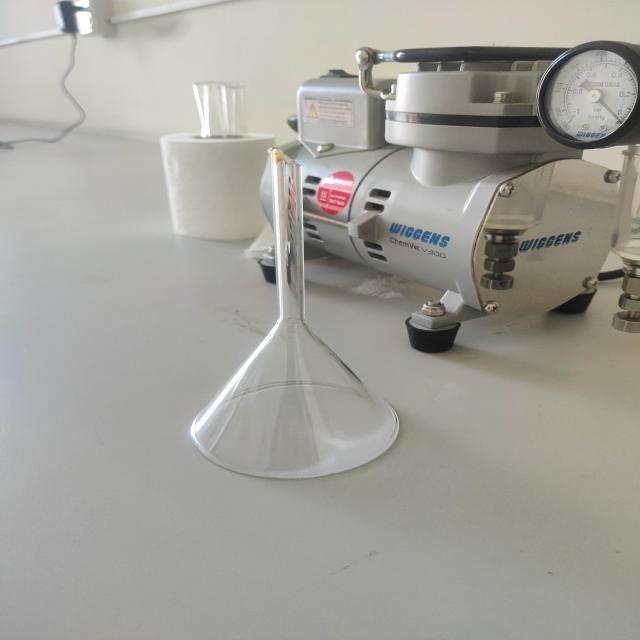Funnel: (145, 140, 432, 498)
